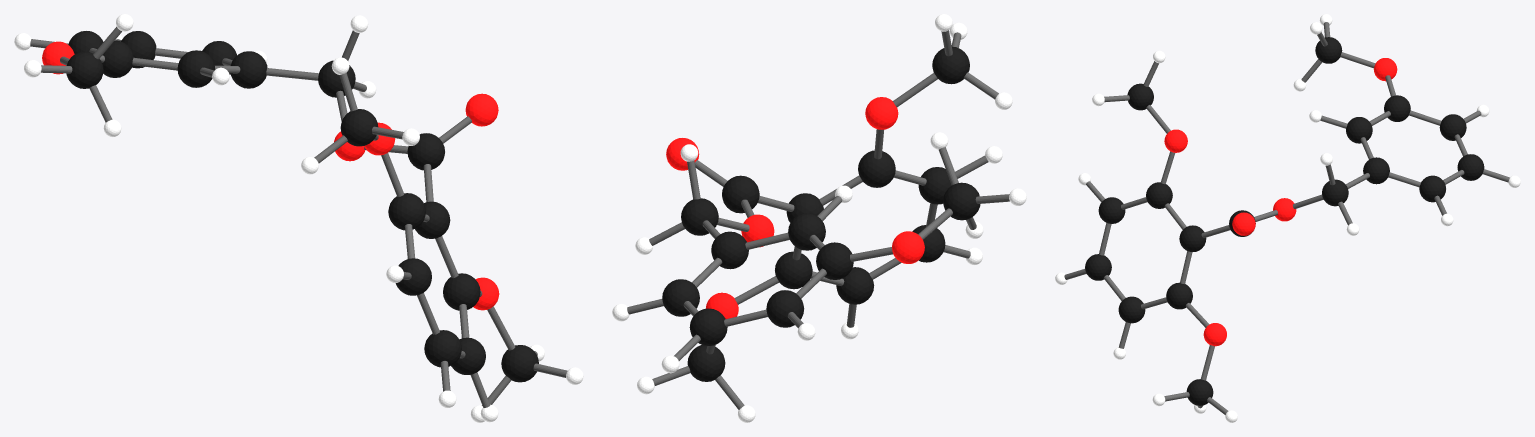
File: molecule.glb
3 views of the same model, side by side, from view 1: azimuth 30°, elevation 25°; view 2: azimuth 150°, elevation 25°; view 3: azimuth 270°, elevation 25° (orthographic). The views are drawn at different scales.
Visible parts, largest first — view 1: geometry_20, geometry_12, geometry_0, geometry_16, geometry_18, geometry_14, geometry_6, geometry_21, geometry_9, geometry_15, geometry_2, geometry_11 (+8 smaller); view 2: geometry_4, geometry_2, geometry_6, geometry_18, geometry_12, geometry_0, geometry_14, geometry_20, geometry_3, geometry_9, geometry_5, geometry_21 (+12 smaller); view 3: geometry_16, geometry_18, geometry_11, geometry_15, geometry_12, geometry_17, geometry_4, geometry_5, geometry_6, geometry_14, geometry_20, geometry_21 (+7 smaller).
Part boxes in pixels (<box>): geometry_20: <box>501,345,538,382</box>; geometry_12: <box>388,193,425,230</box>; geometry_0: <box>66,51,103,88</box>; geometry_16: <box>424,330,461,367</box>; geometry_18: <box>443,273,480,310</box>; geometry_14: <box>340,109,378,146</box>; geometry_6: <box>230,51,267,88</box>; geometry_21: <box>177,50,215,87</box>; geometry_9: <box>407,133,444,170</box>; geometry_15: <box>395,258,431,295</box>; geometry_2: <box>102,40,133,77</box>; geometry_11: <box>415,201,450,238</box>; geometry_4: <box>689,308,727,345</box>; geometry_2: <box>816,242,853,279</box>; geometry_6: <box>711,231,748,269</box>; geometry_18: <box>775,251,812,289</box>; geometry_12: <box>858,150,895,187</box>; geometry_0: <box>943,182,980,220</box>; geometry_14: <box>932,46,969,84</box>; geometry_20: <box>687,345,725,381</box>; geometry_3: <box>766,290,804,327</box>; geometry_9: <box>722,175,759,213</box>; geometry_5: <box>662,279,699,316</box>; geometry_21: <box>788,213,825,250</box>; geometry_16: <box>1085,254,1111,280</box>; geometry_18: <box>1166,282,1192,309</box>; geometry_11: <box>1179,225,1206,251</box>; geometry_15: <box>1098,197,1125,223</box>; geometry_12: <box>1146,182,1172,208</box>; geometry_17: <box>1118,296,1145,323</box>; geometry_4: <box>1457,154,1484,180</box>; geometry_5: <box>1419,175,1445,202</box>; geometry_6: <box>1363,157,1389,184</box>; geometry_14: <box>1127,83,1153,110</box>; geometry_20: <box>1186,379,1213,405</box>; geometry_21: <box>1346,117,1372,143</box>.
Bounding box in the file's own units: 0.2055 × 0.185 × 0.257.
